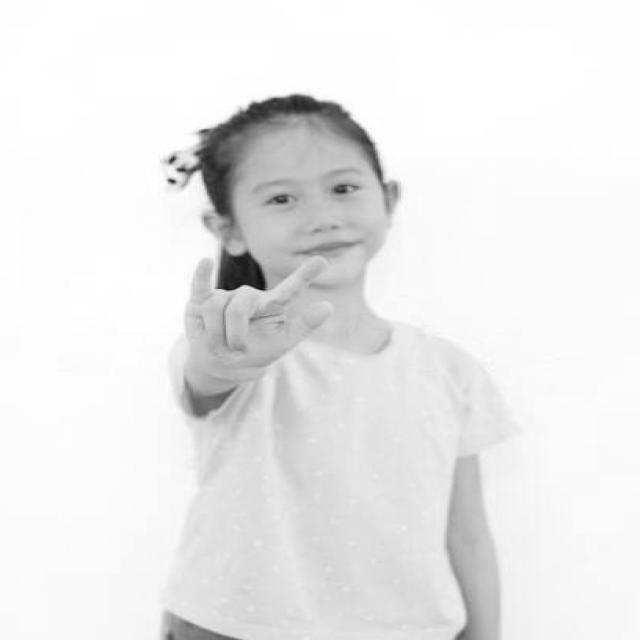i love you: (172, 246, 345, 386)
